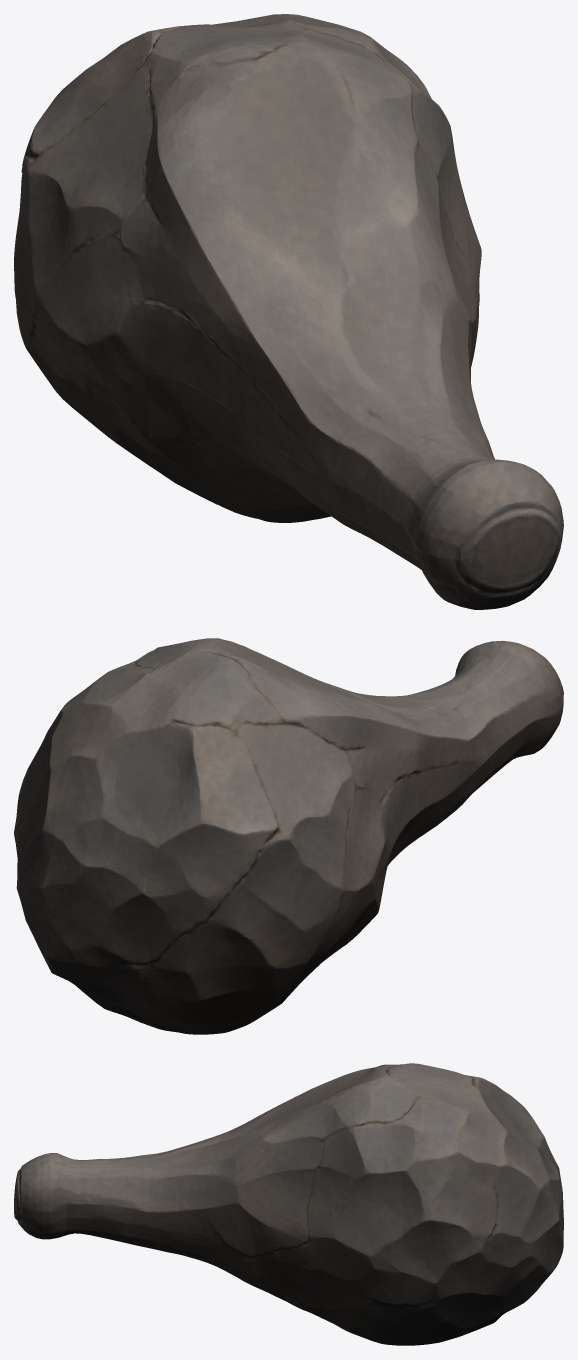
3 renders of one model, top to bottom at view 1: azimuth 30°, elevation 25°; view 2: azimuth 150°, elevation 25°; view 3: azimuth 270°, elevation 25°, orthographic. The views are drawn at different scales.
Visible parts, largest first — view 1: world; view 2: world; view 3: world.
Boxes of the visible parts, x1,y1,x2,y2 form: world: (14,14,563,609); world: (14,638,563,1034); world: (14,1063,563,1345).
Bounding box in the file's own units: 0.4834 × 0.5256 × 0.9971.
Materials: 1 (1 with a texture image).
